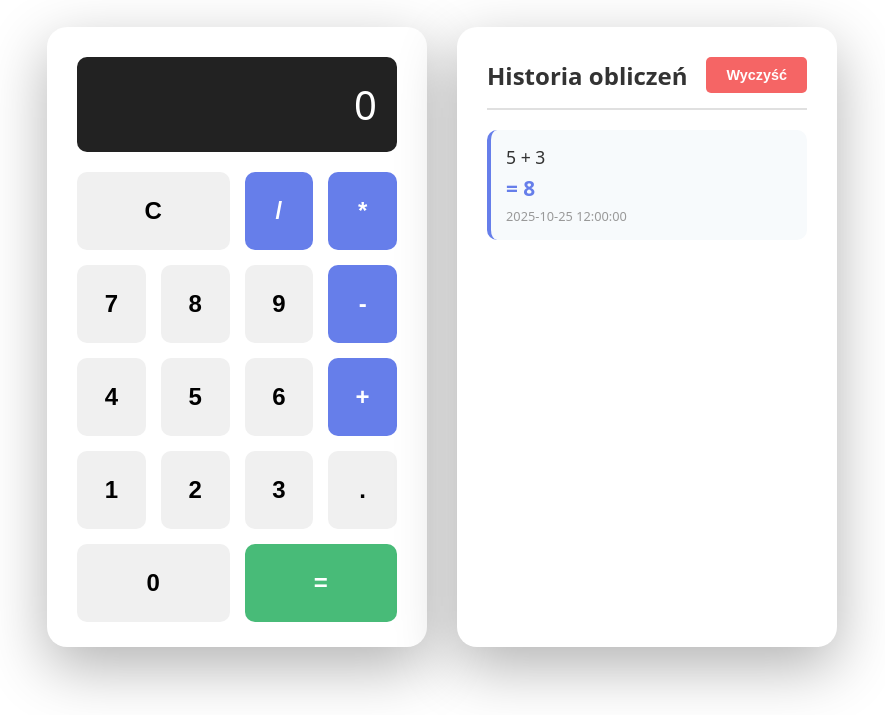
it: Calculator App › clears history when clear button is clicked
Expected: the text "5 + 3" is shown, [506,145,545,169]
Click the button "Wyczyść".
click(757, 75)  # box [706,57,807,93]
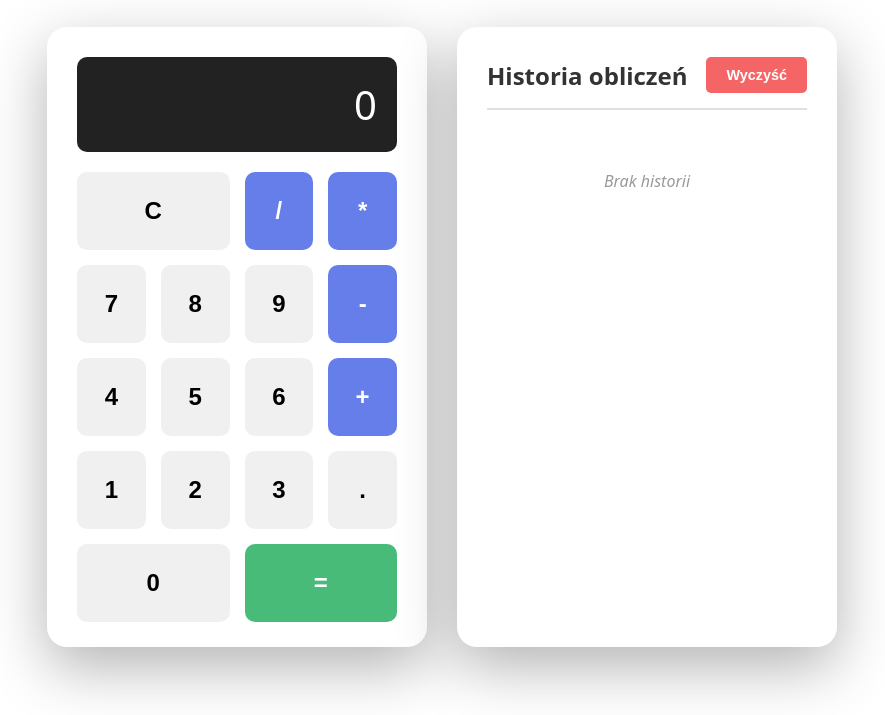
Expected: the text "Brak historii" is shown, [604,170,690,192]
